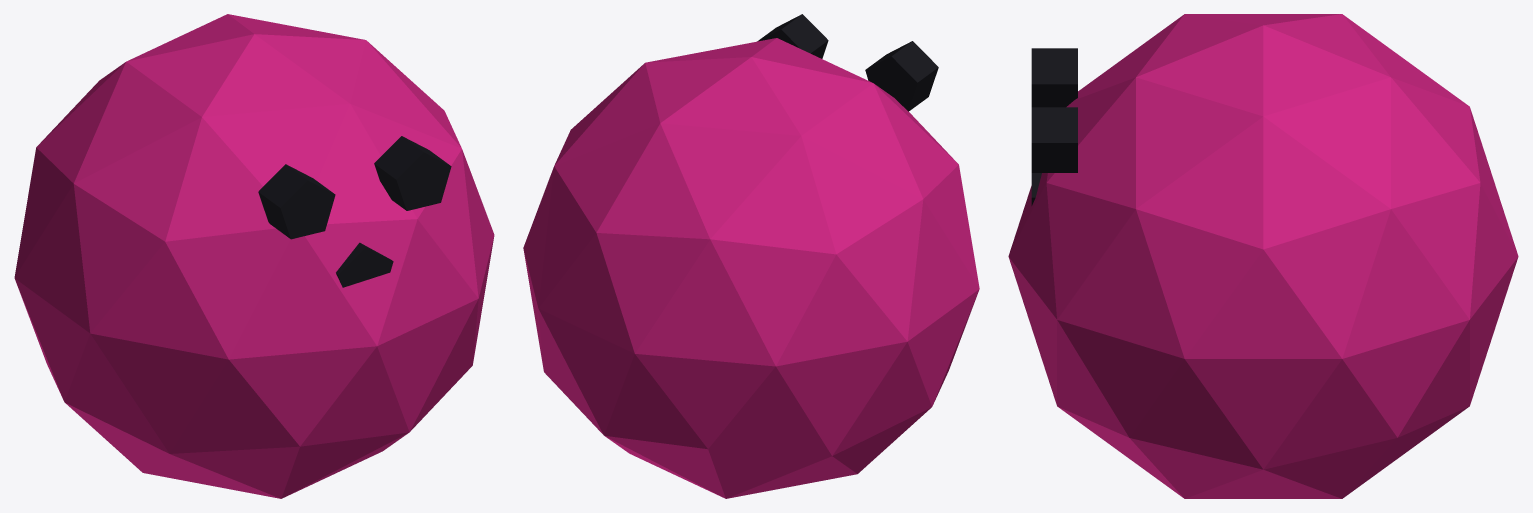
Rendered from bowling_ball_pink.glb.
3 views of the same model, side by side, from view 1: azimuth 30°, elevation 25°; view 2: azimuth 150°, elevation 25°; view 3: azimuth 270°, elevation 25° (orthographic). The views are drawn at different scales.
Parts seen in each view (by area): view 1: bowling_ball_pink; view 2: bowling_ball_pink; view 3: bowling_ball_pink.
Boxes of the visible parts, x1,y1,x2,y2 form: bowling_ball_pink: (14,14,494,498); bowling_ball_pink: (523,14,979,498); bowling_ball_pink: (1008,14,1518,498).
Bounding box in the file's own units: 0.2092 × 0.22 × 0.22.
